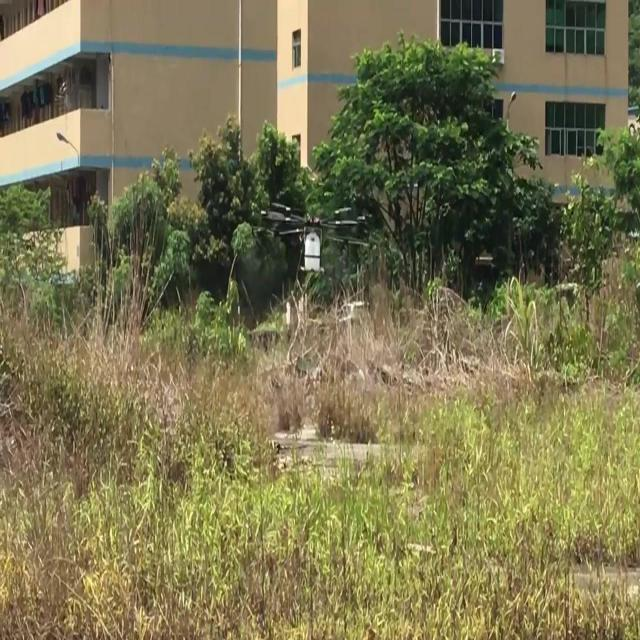UAV: (252, 202, 366, 273)
